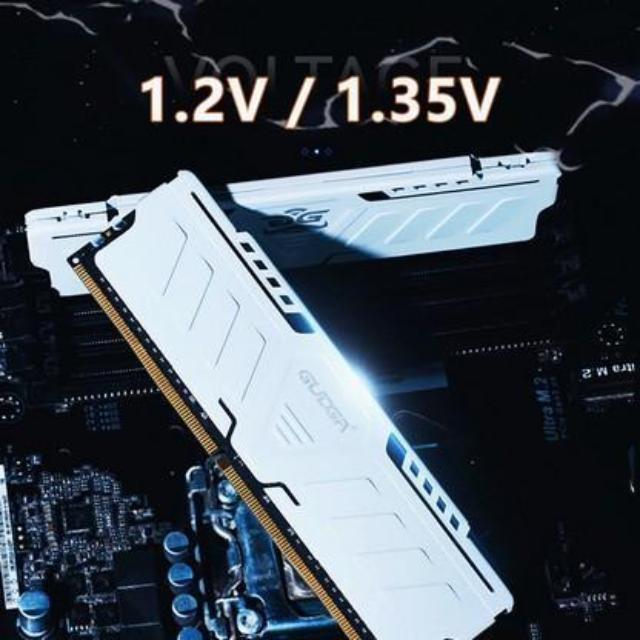RAM: (54, 175, 520, 640), (26, 158, 580, 290)
